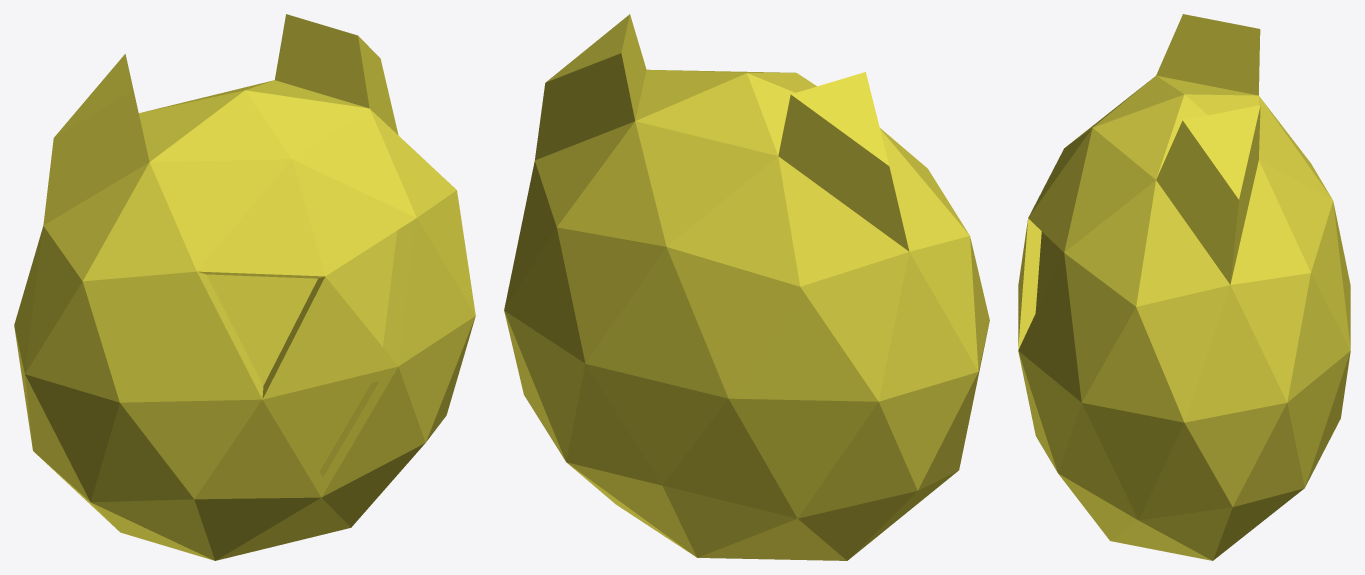
The model's file is cat_coin.fbx.
The picture shows the model from 3 angles, left to right: view 1: azimuth 30°, elevation 25°; view 2: azimuth 150°, elevation 25°; view 3: azimuth 270°, elevation 25°; orthographic projection. The views are drawn at different scales.
Parts seen in each view (by area): view 1: cat coin; view 2: cat coin; view 3: cat coin.
Boxes of the visible parts, x1=… form: cat coin: x1=14, y1=14, x2=475, y2=560; cat coin: x1=504, y1=14, x2=989, y2=560; cat coin: x1=1018, y1=14, x2=1350, y2=560.
Size of the model in its own units: 15.34 by 24.18 by 22.79.
